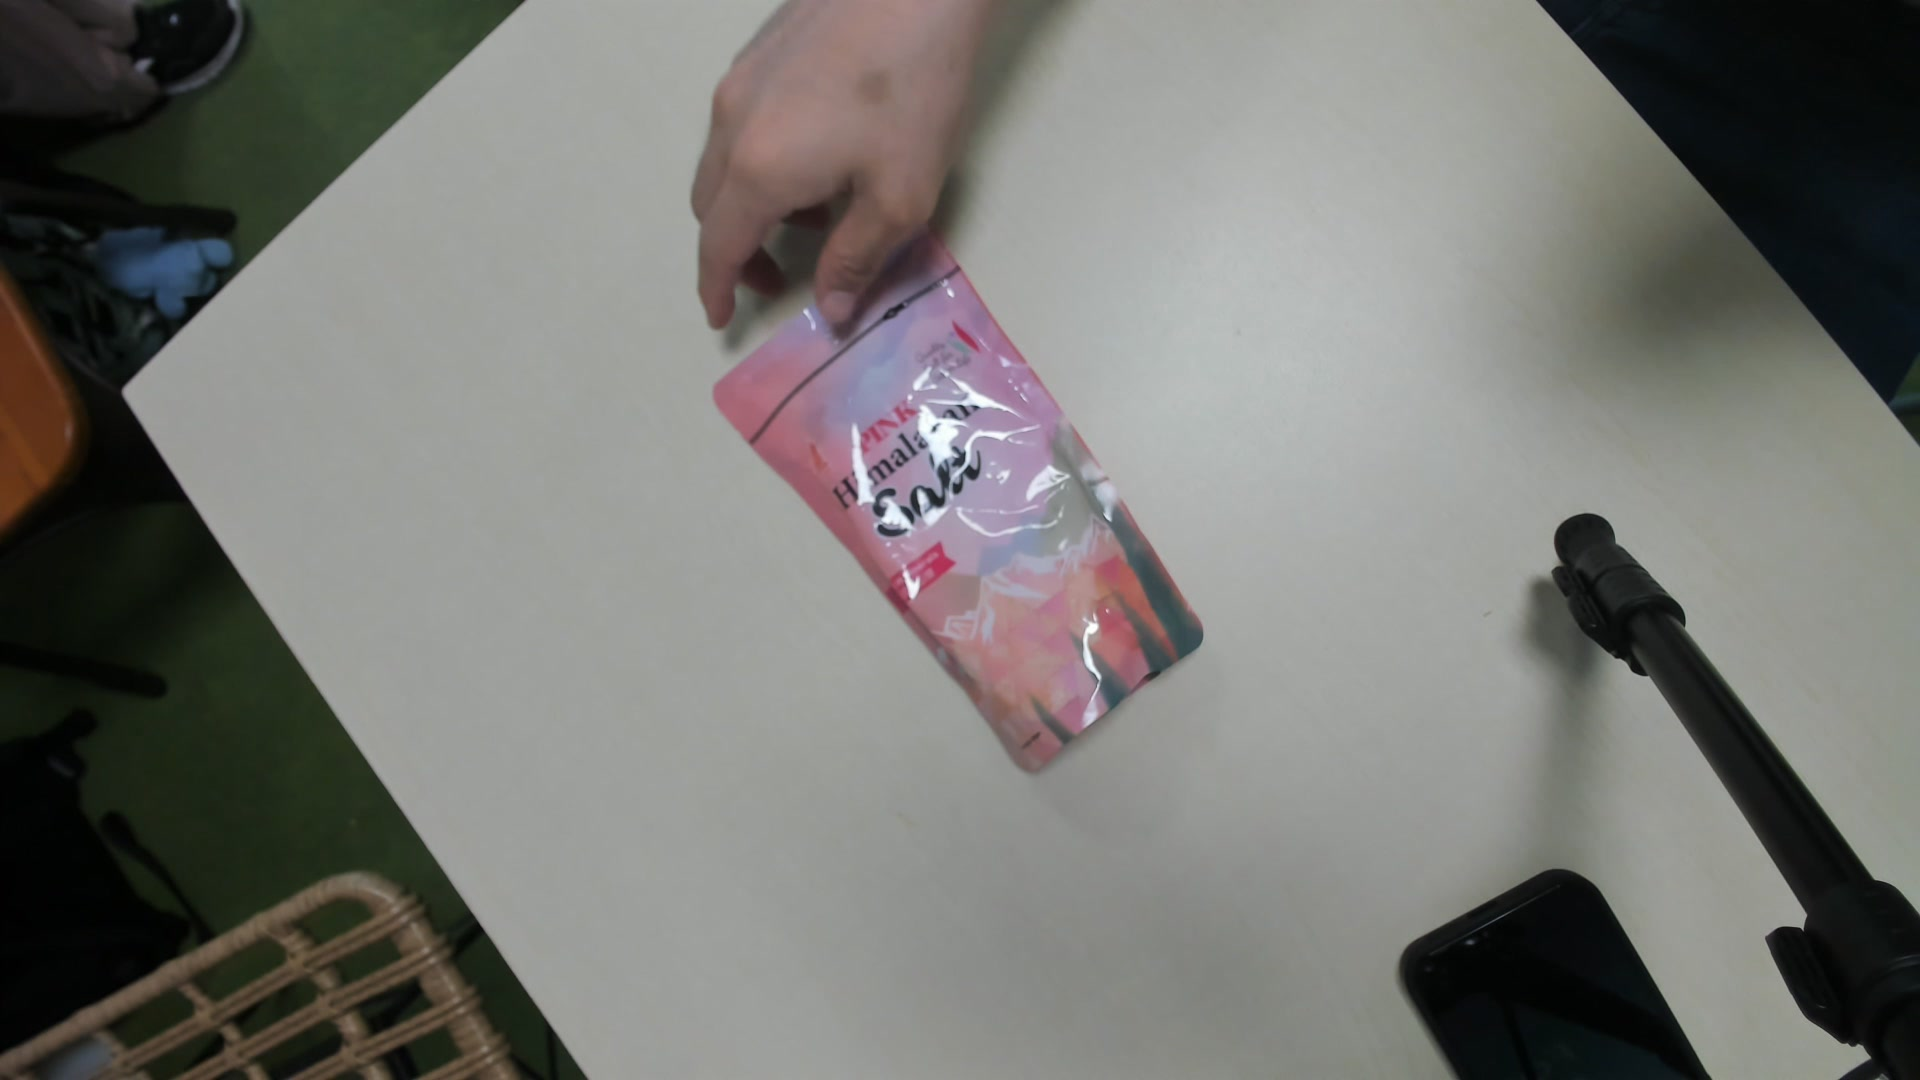Salt_400-499g_NonHalal_NonHealthy: (727, 224, 1203, 771)
